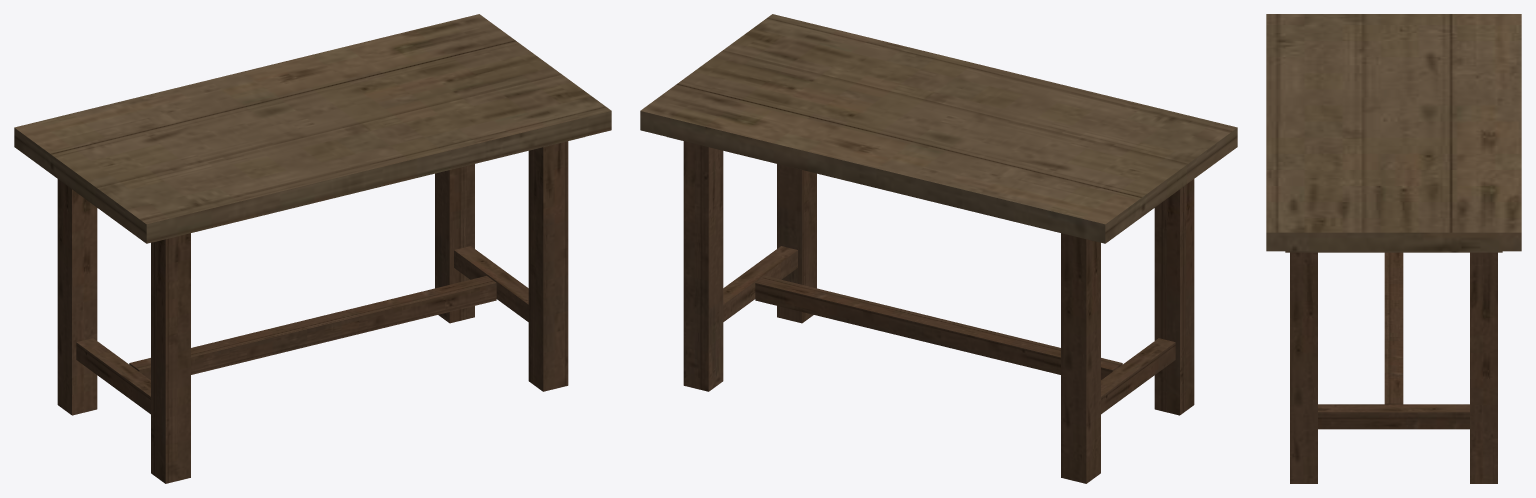
The model's file is mesa_roble.glb.
3 views of the same model, side by side, from view 1: azimuth 30°, elevation 25°; view 2: azimuth 150°, elevation 25°; view 3: azimuth 270°, elevation 25° (orthographic). The views are drawn at different scales.
Parts seen in each view (by area): view 1: mesa_roble; view 2: mesa_roble; view 3: mesa_roble.
Boxes of the visible parts, bbox=[...] form: mesa_roble: bbox=[14, 14, 611, 483]; mesa_roble: bbox=[640, 14, 1237, 483]; mesa_roble: bbox=[1266, 14, 1521, 483].
Size of the model in its own units: 1.38 by 0.7825 by 0.68.
Materials: 2 (2 with a texture image).
